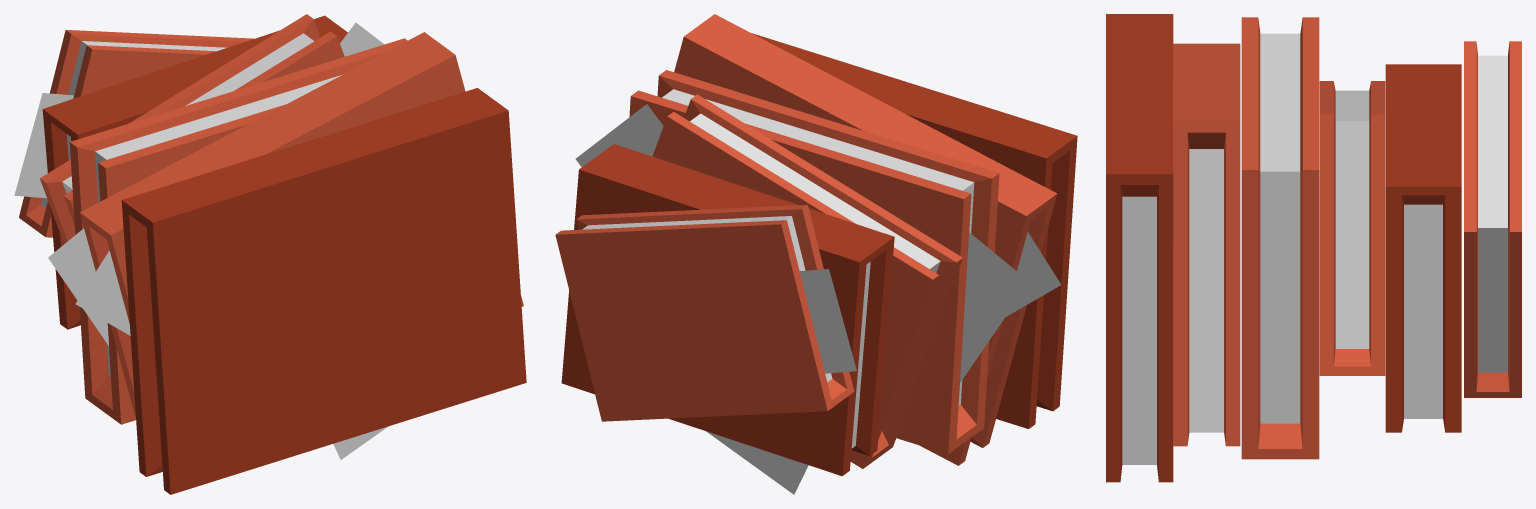
Rendered from Book_Pile_2.glb.
The picture shows the model from 3 angles, left to right: view 1: azimuth 30°, elevation 25°; view 2: azimuth 150°, elevation 25°; view 3: azimuth 270°, elevation 25°; orthographic projection. The views are drawn at different scales.
Parts seen in each view (by area): view 1: Book Pile 2; view 2: Book Pile 2; view 3: Book Pile 2.
Boxes of the visible parts, box(x1,y1,x2,y2) form: Book Pile 2: box(14, 14, 526, 494); Book Pile 2: box(555, 14, 1077, 494); Book Pile 2: box(1106, 14, 1521, 482).
Bounding box in the file's own units: 0.3239 × 0.2799 × 0.2496.
Materials: 1 (1 with a texture image).
